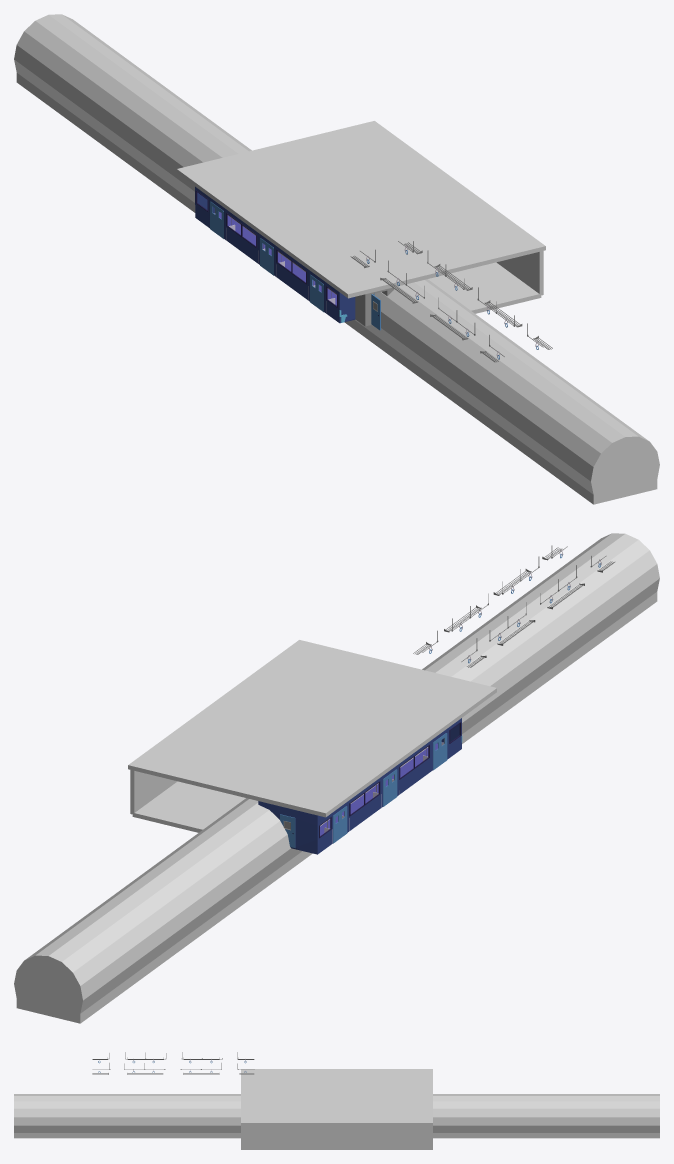
File: Tunel.fbx
The picture shows the model from 3 angles, top to bottom: view 1: azimuth 30°, elevation 25°; view 2: azimuth 150°, elevation 25°; view 3: azimuth 270°, elevation 25°; orthographic projection. The views are drawn at different scales.
Visible parts, largest first — view 1: Tunnel, Cube.004, Vagon, Cube, Tubos, Cube.005, DecoInterior; view 2: Tunnel, Cube.004, Vagon, Cube, Tubos, Cube.005, DecoInterior; view 3: Tunnel, Cube.004, Cube.005, Tubos, Cube.
Part boxes in pixels (<box>): Tunnel: <box>14,14,659,504</box>; Cube.004: <box>177,121,545,298</box>; Vagon: <box>195,186,393,330</box>; Cube: <box>428,262,541,313</box>; Tubos: <box>350,241,552,362</box>; Cube.005: <box>496,251,543,295</box>; DecoInterior: <box>195,190,347,322</box>; Tunnel: <box>14,533,659,1023</box>; Cube.004: <box>128,640,496,817</box>; Vagon: <box>258,718,461,854</box>; Cube: <box>132,781,245,832</box>; Tubos: <box>413,545,615,667</box>; Cube.005: <box>130,766,177,814</box>; DecoInterior: <box>319,722,462,843</box>; Tunnel: <box>14,1094,659,1138</box>; Cube.004: <box>241,1069,432,1125</box>; Cube.005: <box>241,1125,432,1149</box>; Tubos: <box>92,1052,254,1074</box>; Cube: <box>241,1149,432,1149</box>.
Size of the model in its own units: 10000 by 5497 by 50529.
